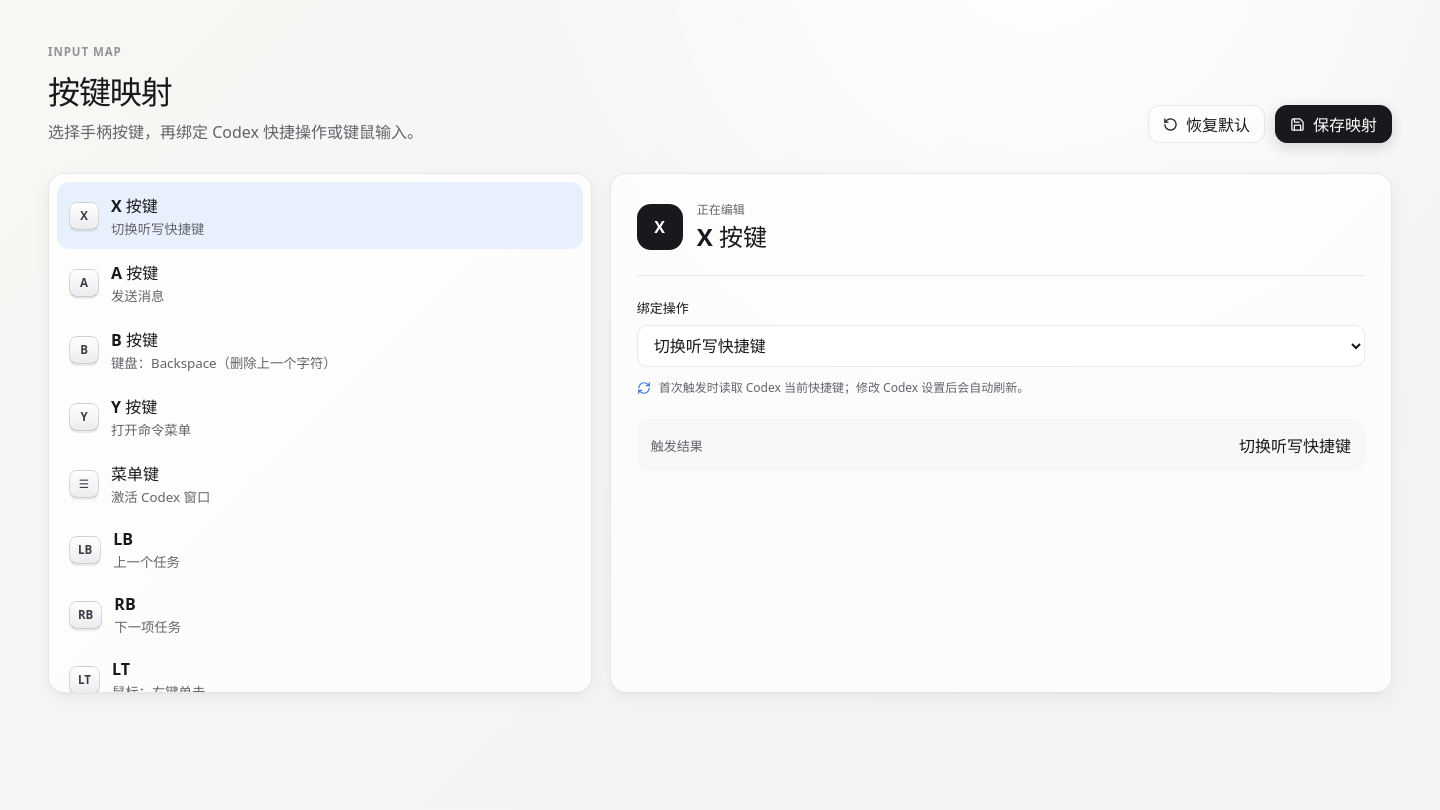
Scenario: MappingEditor › warns when two controls use the same exclusive shortcut
Click the button "Y Y 按键 打开命令菜单" at (134, 407), box [57,383,583,450]
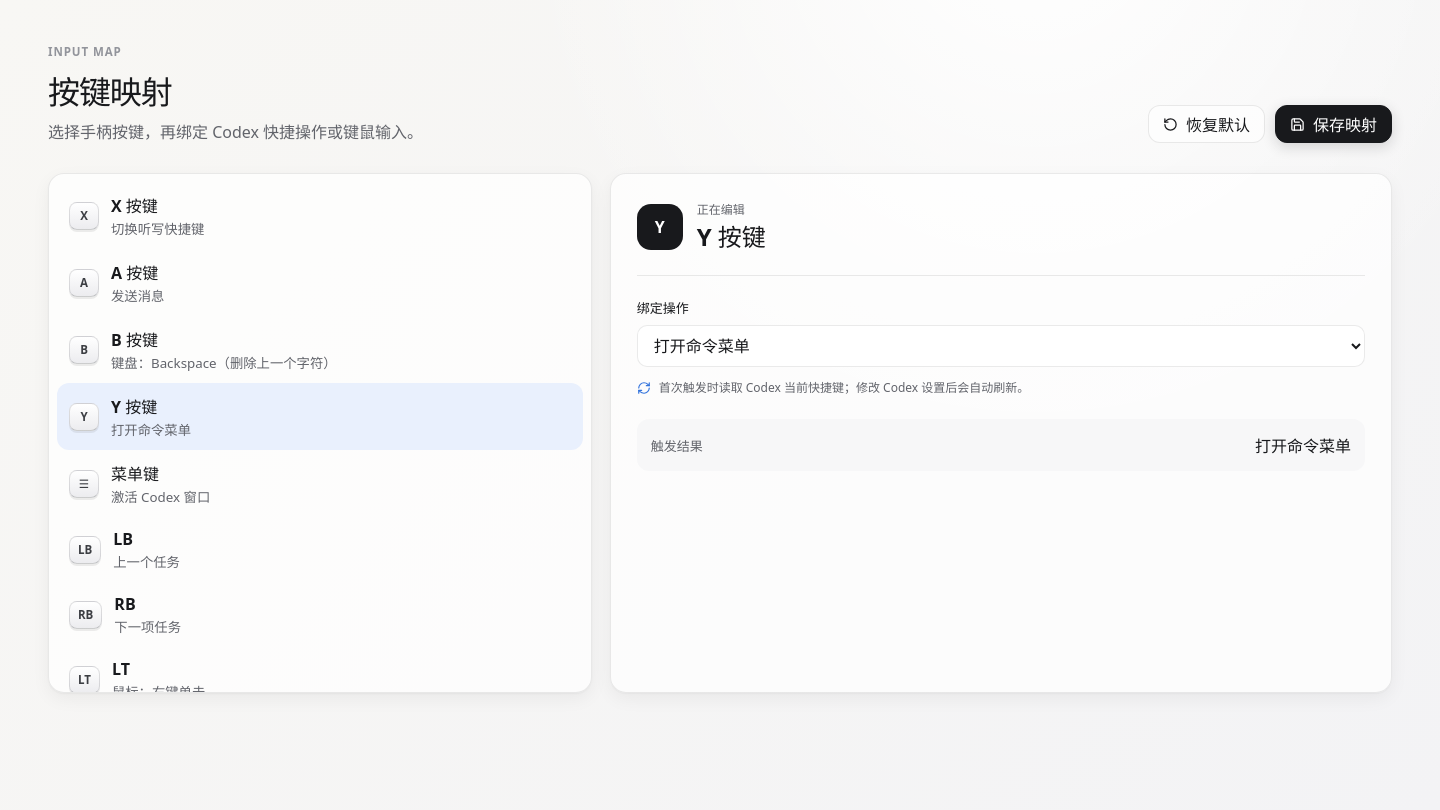
Select "切换听写快捷键" in the dropdown labelled "绑定操作" at (1001, 346), box [637,325,1365,367]
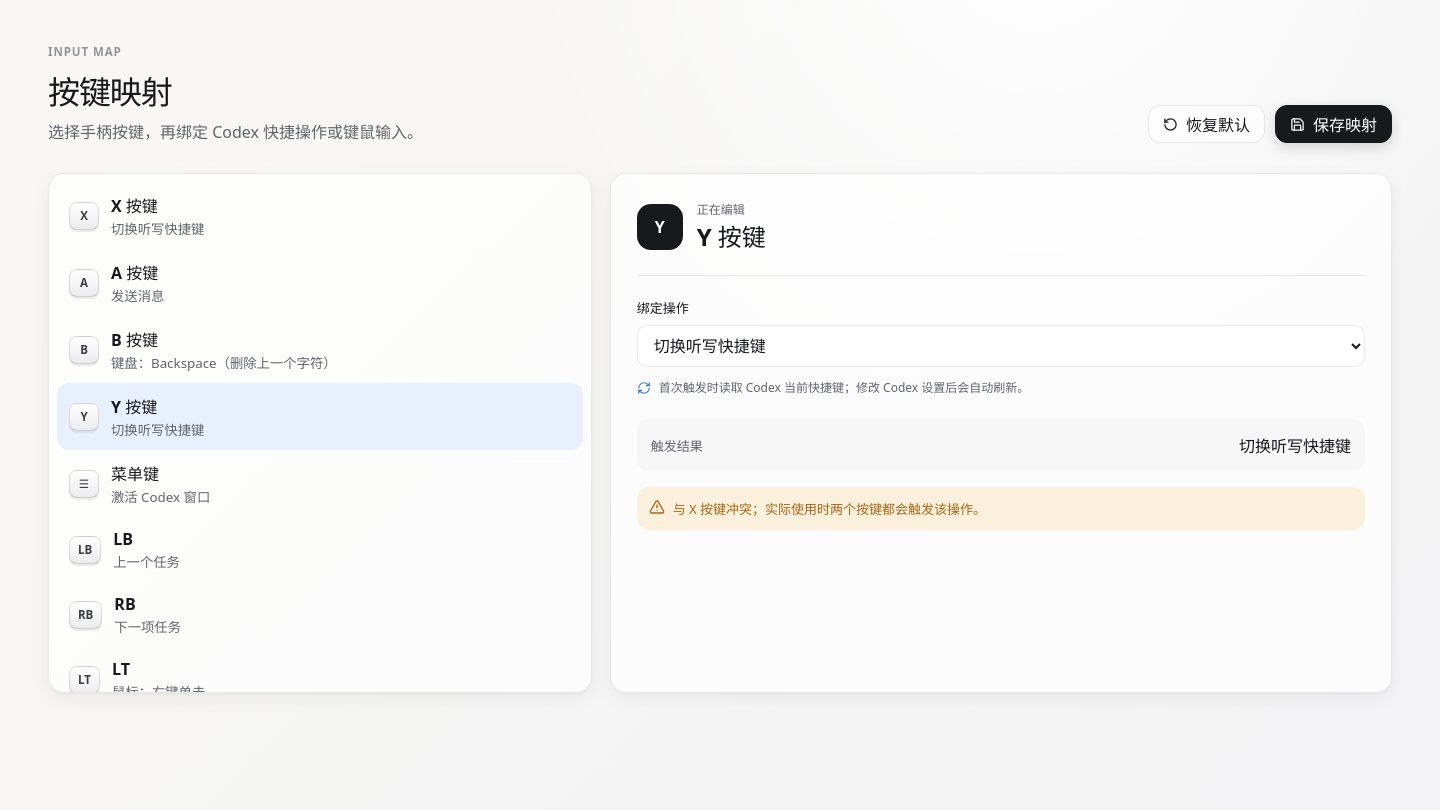
Result: the message shows "与 X 按键冲突" at [637,487,1365,530]
